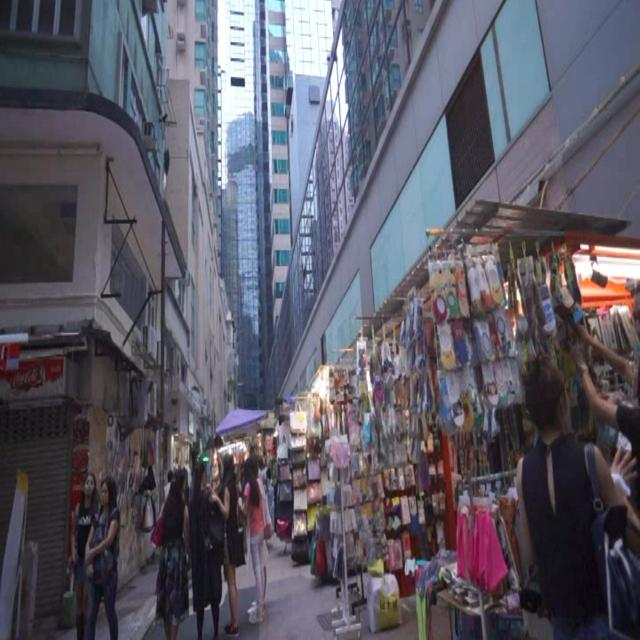body: (510, 346, 640, 639), (555, 280, 640, 405), (204, 451, 246, 639), (235, 452, 275, 628), (188, 457, 226, 640), (81, 473, 122, 639), (155, 467, 190, 640), (68, 468, 102, 640), (176, 452, 205, 488), (263, 469, 275, 527), (163, 470, 175, 502)
